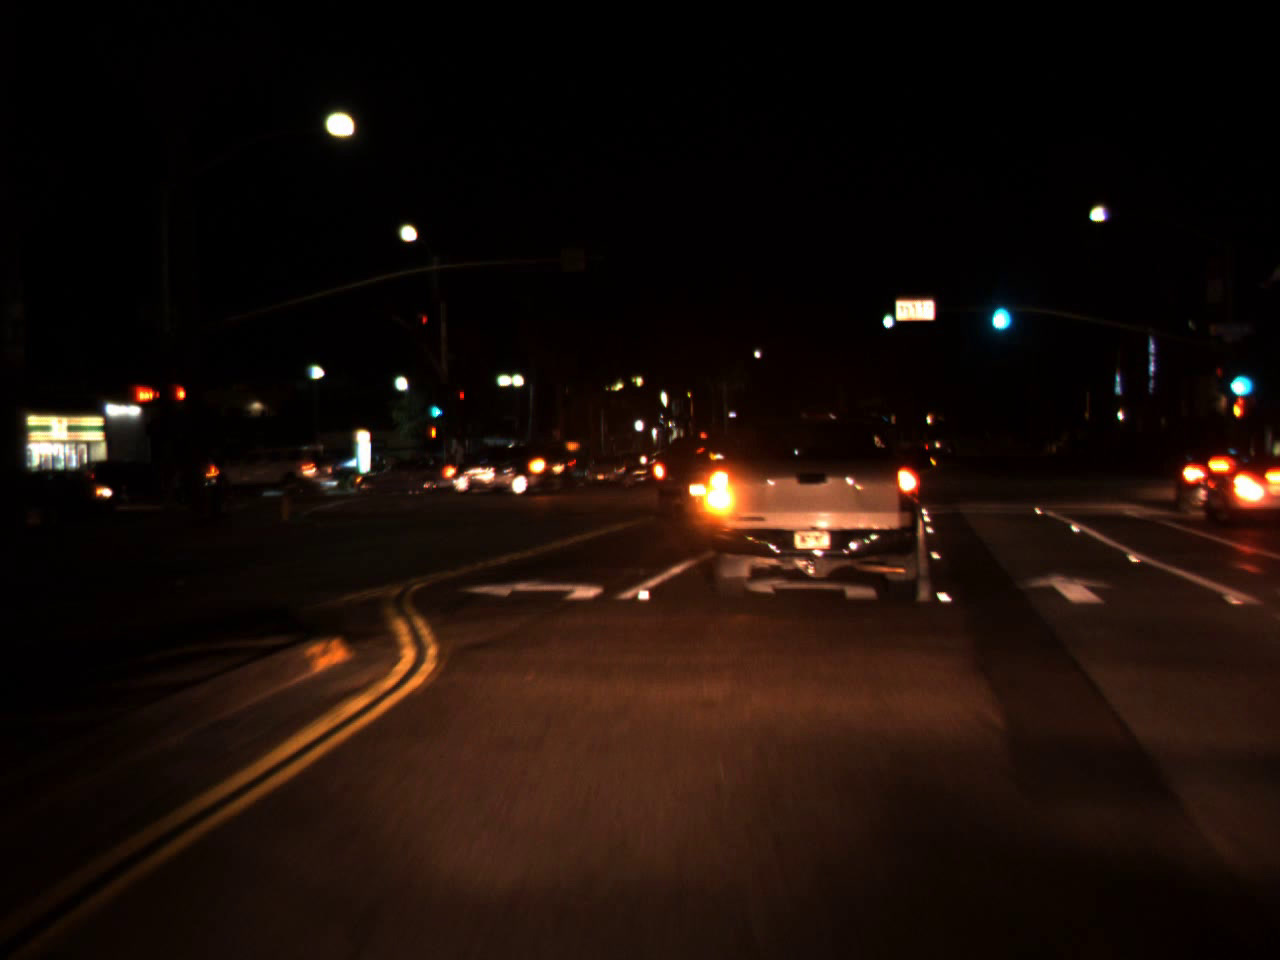go: (984, 279, 1014, 339), (1224, 350, 1254, 404), (876, 295, 897, 334), (425, 387, 446, 423)
